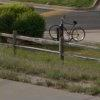Bicycle: (48, 13, 87, 44)
